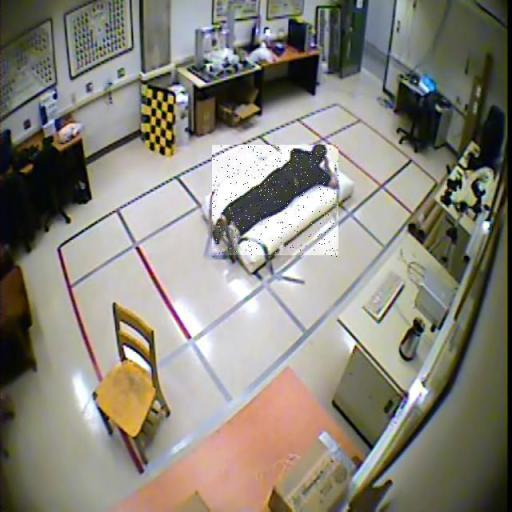Fall: (212, 146, 338, 258)
